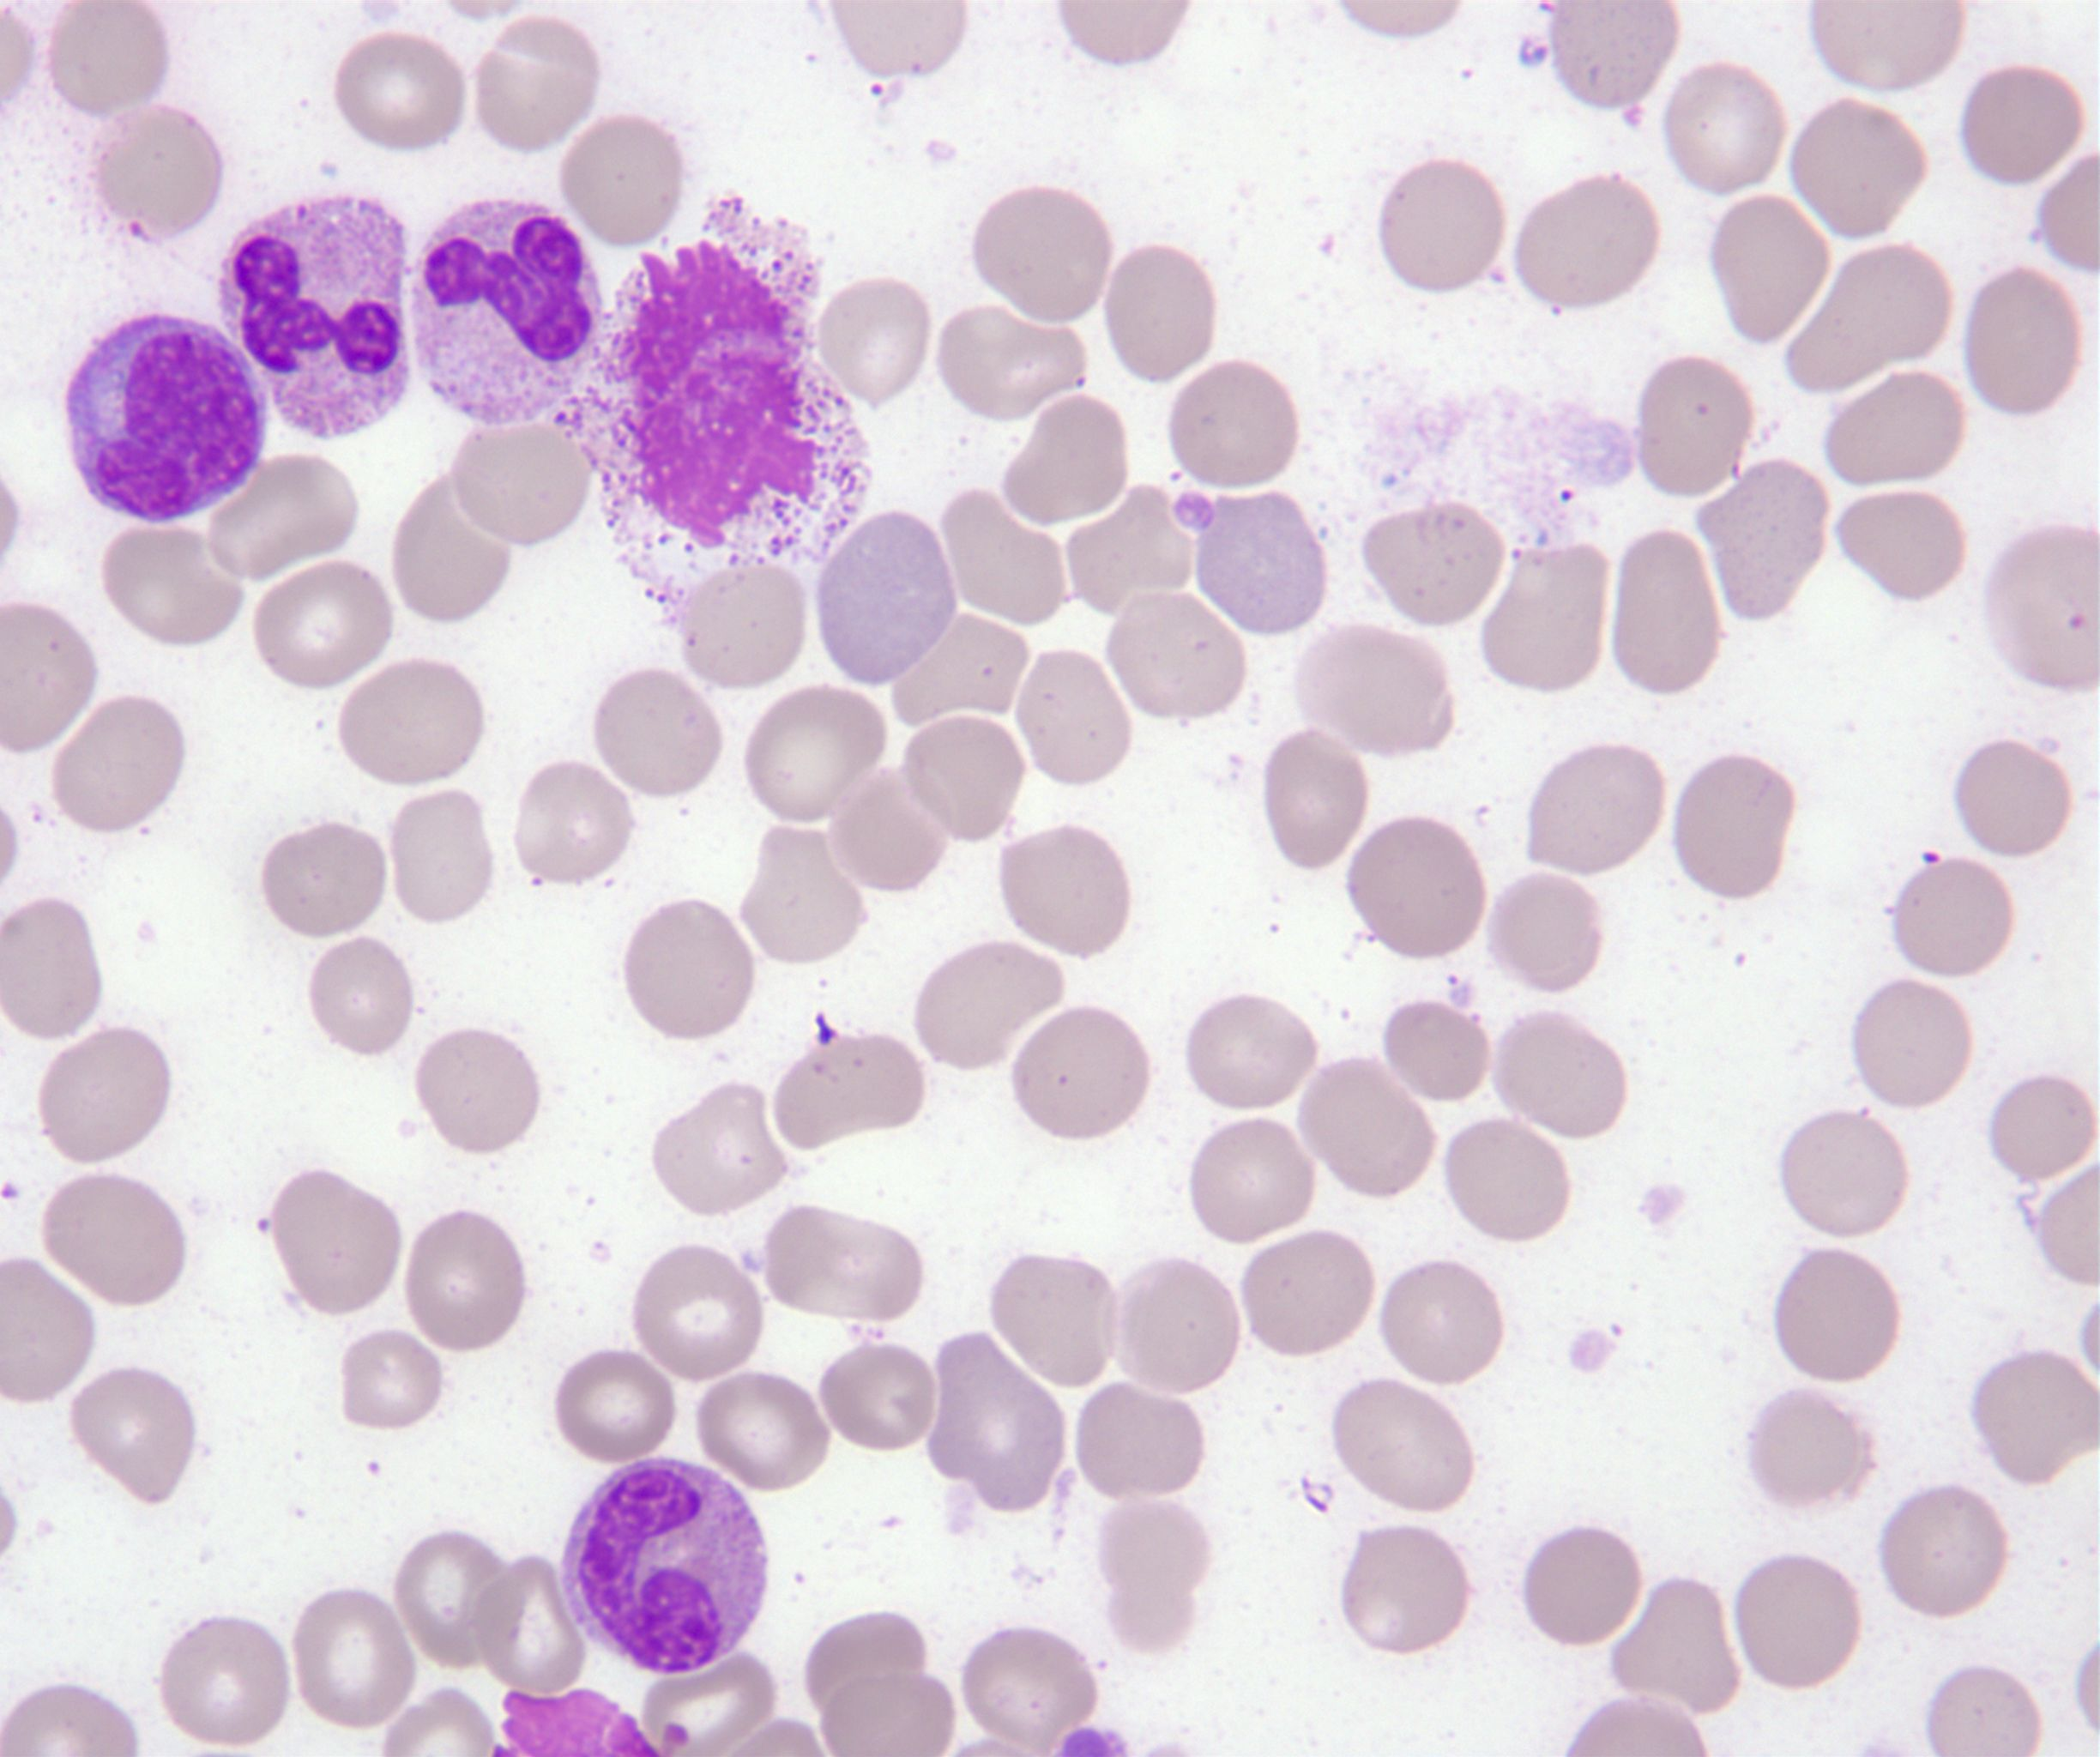42: (68, 318, 262, 518)
5: (563, 1460, 766, 1672), (415, 199, 603, 424)
6: (220, 197, 405, 440)
x: (574, 192, 865, 614)
